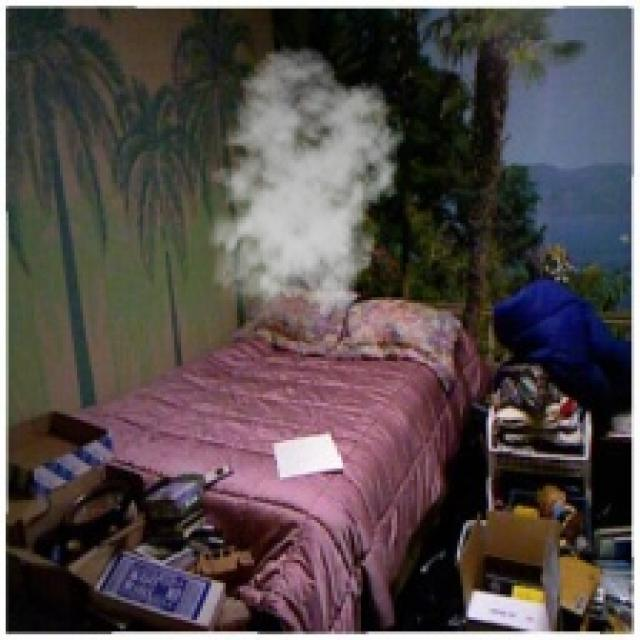smoke: (197, 46, 406, 320)
